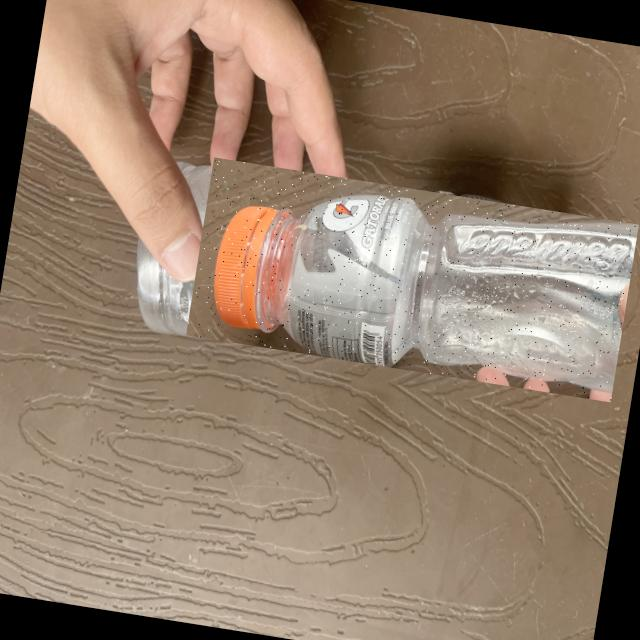REJECT: (186, 157, 639, 402)
